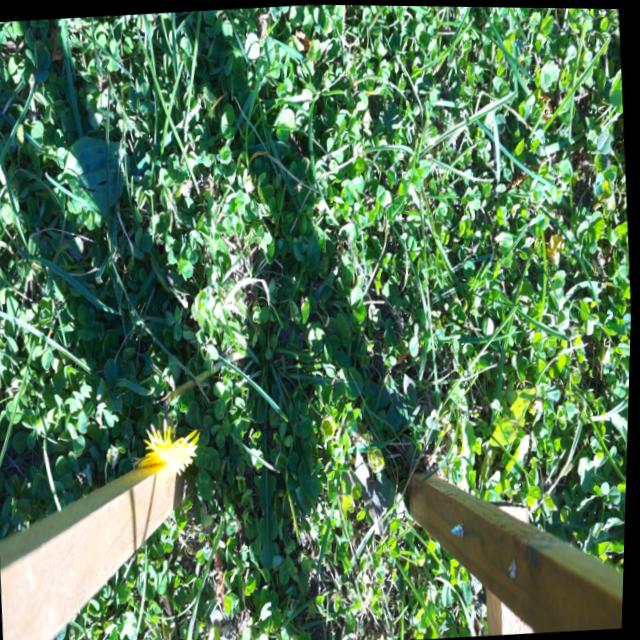base: (250, 335, 275, 371)
